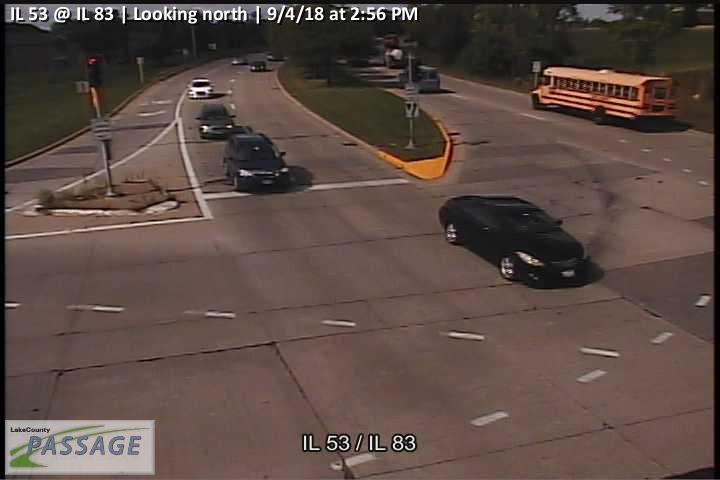Bus: (530, 64, 676, 126)
SUV: (224, 132, 290, 192), (399, 64, 440, 93)
Sedan: (439, 194, 591, 287), (194, 103, 237, 140), (186, 78, 215, 98), (249, 61, 266, 72)
